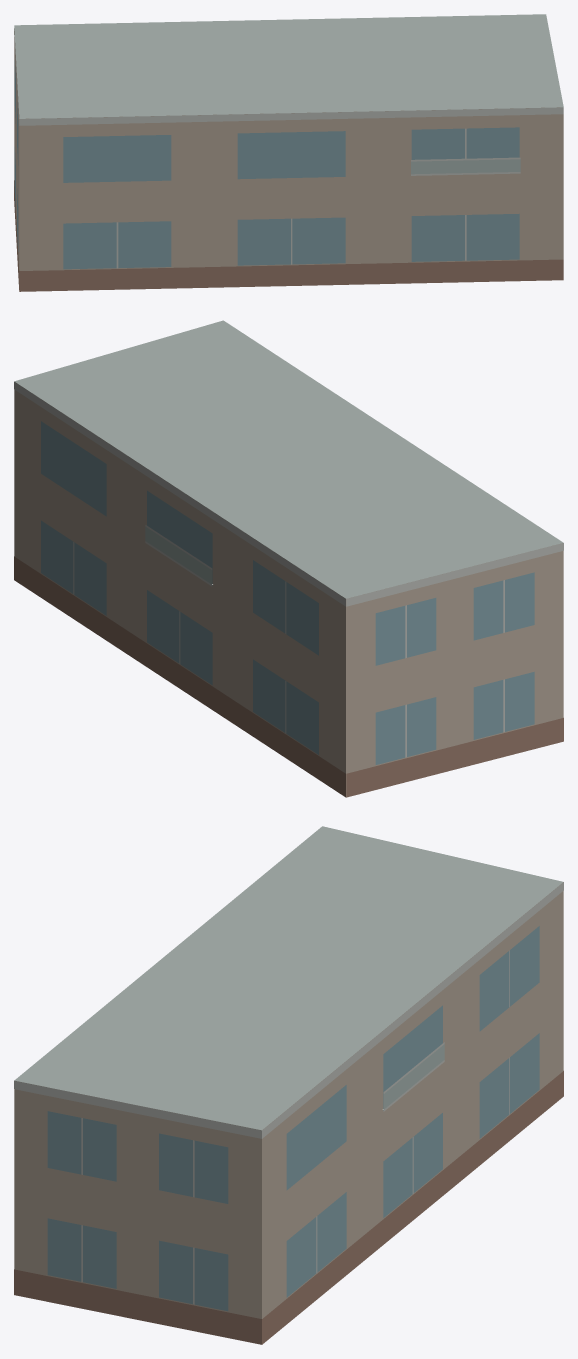
The model's file is survey-upis-32478463.glb.
3 views of the same model, one above another, from view 1: azimuth 30°, elevation 25°; view 2: azimuth 150°, elevation 25°; view 3: azimuth 270°, elevation 25° (orthographic). The views are drawn at different scales.
Parts seen in each view (by area): view 1: survey-upis-32478463.tmp; view 2: survey-upis-32478463.tmp; view 3: survey-upis-32478463.tmp.
Boxes of the visible parts, left/top/right/bottom form: survey-upis-32478463.tmp: left=14, top=14, right=563, bottom=291; survey-upis-32478463.tmp: left=14, top=320, right=563, bottom=797; survey-upis-32478463.tmp: left=14, top=826, right=563, bottom=1344.
Size of the model in its own units: 18.57 by 6.1 by 14.18.
